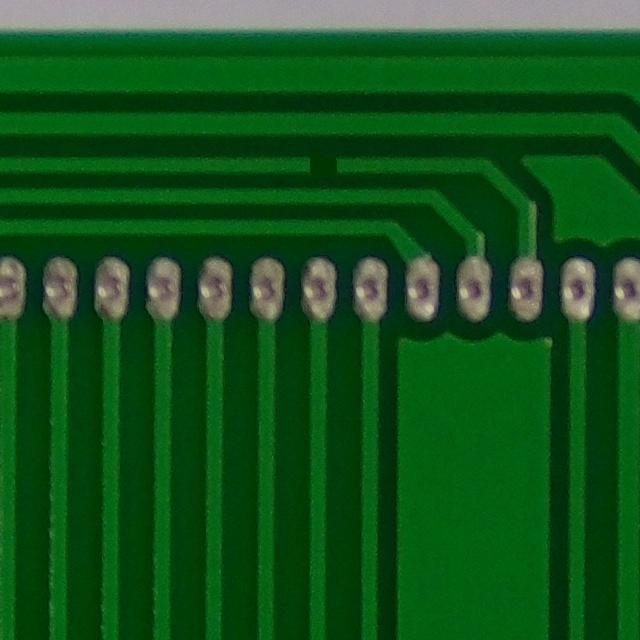open_circuit: (291, 139, 353, 184)
